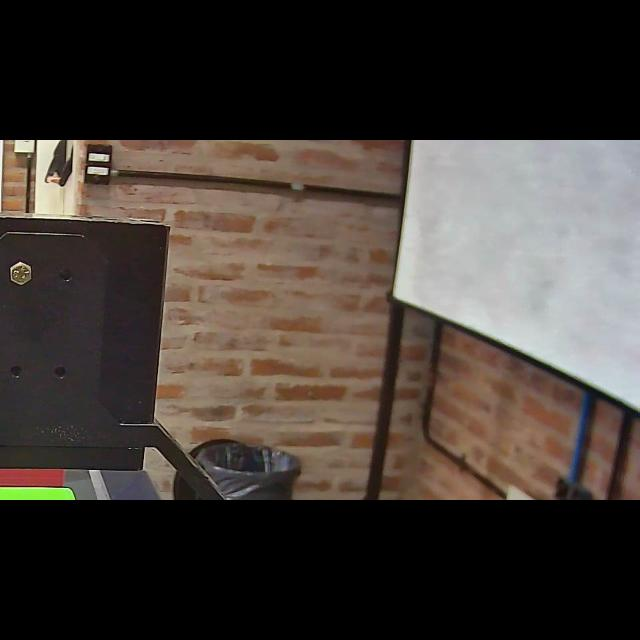greenBox: (0, 482, 94, 500)
redBox: (0, 459, 76, 487)
